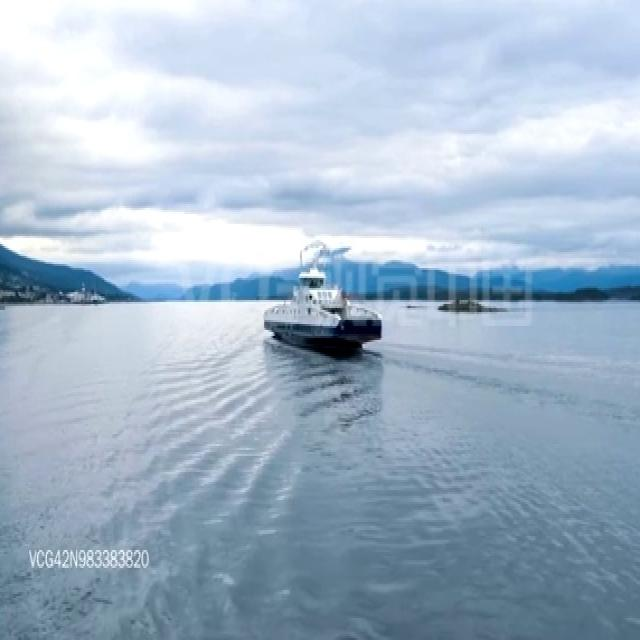houseboat: (262, 258, 381, 357)
